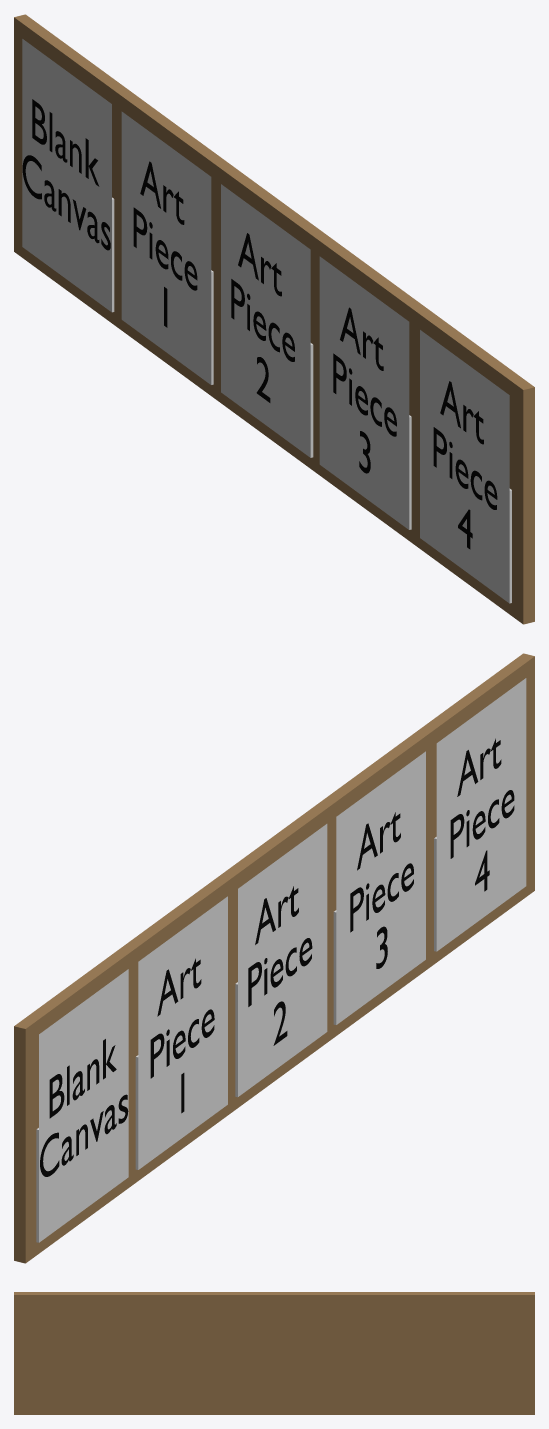
File: ArtPieceMenu.fbx
3 views of the same model, one above another, from view 1: azimuth 30°, elevation 25°; view 2: azimuth 150°, elevation 25°; view 3: azimuth 270°, elevation 25° (orthographic). The views are drawn at different scales.
Visible parts, largest first — view 1: Plane.006, Plane.008, Plane.012, Plane.011, Plane.013, Plane.009, a.005, a.006, a.004, a.002, a.001; view 2: Plane.006, Plane.013, Plane.008, Plane.012, Plane.011, Plane.009, a.005, a.006, a.002, a.004, a.001; view 3: Plane.006.
Boxes of the visible parts, bbox=[...] form: Plane.006: bbox=[14, 14, 534, 624]; Plane.008: bbox=[121, 111, 213, 384]; Plane.012: bbox=[319, 256, 411, 529]; Plane.011: bbox=[221, 184, 313, 457]; Plane.013: bbox=[420, 330, 511, 603]; Plane.009: bbox=[22, 39, 114, 312]; a.005: bbox=[22, 99, 110, 250]; a.006: bbox=[433, 381, 497, 549]; a.004: bbox=[333, 307, 396, 473]; a.002: bbox=[231, 233, 294, 402]; a.001: bbox=[133, 161, 197, 327]; Plane.006: bbox=[14, 653, 534, 1263]; Plane.013: bbox=[434, 678, 526, 951]; Plane.008: bbox=[135, 896, 227, 1169]; Plane.012: bbox=[333, 751, 425, 1024]; Plane.011: bbox=[235, 824, 327, 1097]; Plane.009: bbox=[36, 969, 128, 1242]; a.005: bbox=[40, 1039, 128, 1176]; a.006: bbox=[450, 738, 514, 891]; a.002: bbox=[248, 886, 312, 1045]; a.004: bbox=[350, 812, 413, 968]; a.001: bbox=[150, 958, 214, 1113]; Plane.006: bbox=[14, 1292, 534, 1414].
Bounding box in the file's own units: 14.55 × 225 × 885.
